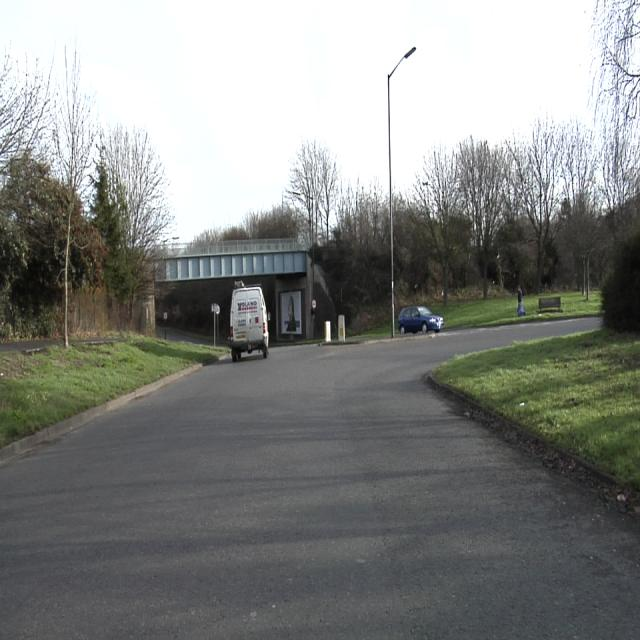Car: (398, 307, 444, 334)
Road: (0, 318, 640, 638)
Tree: (0, 48, 172, 346), (395, 120, 640, 303), (255, 142, 388, 304), (68, 128, 169, 302), (0, 155, 69, 338), (594, 1, 640, 120)
Truck_Bus: (229, 287, 269, 361)
